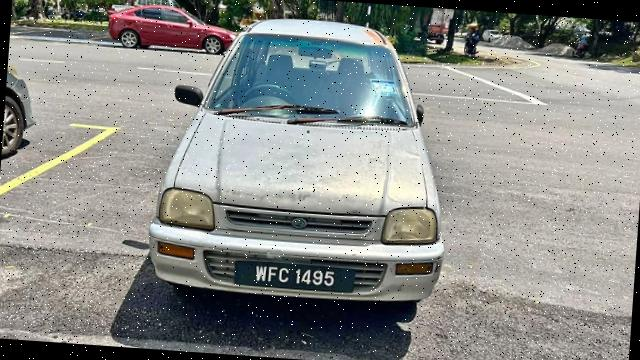License_Plate: (244, 263, 346, 293)
car: (146, 6, 459, 314)
